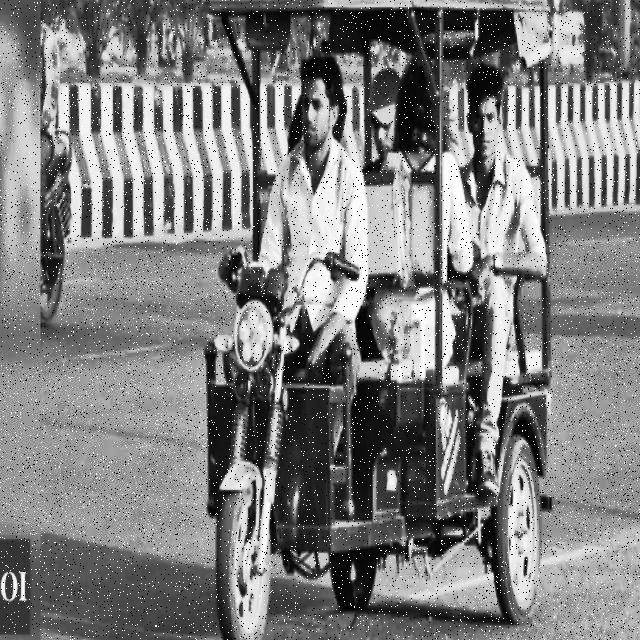Toto: (197, 0, 548, 640)
